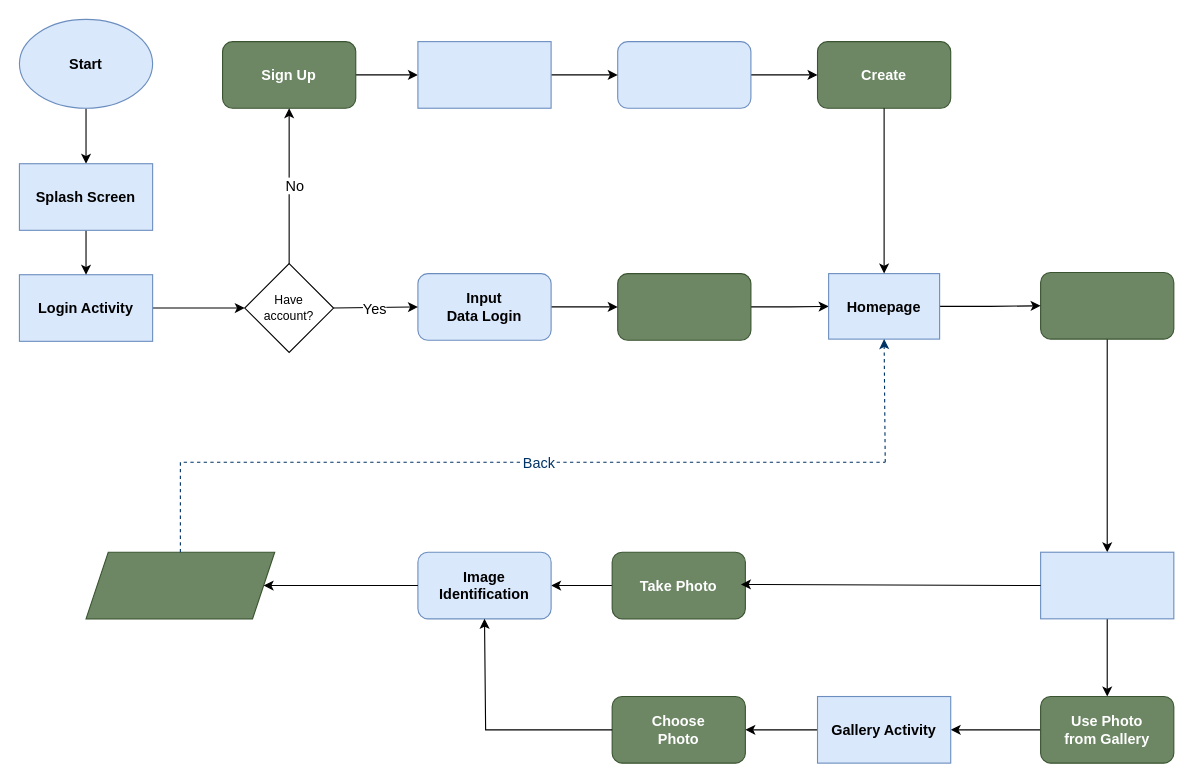
This 1193x783 diagram has some shape labels left out. The shapes that lost their labels are listed below. From the top down, each one's centre as x and y in pixels, then its label:
At (x=484, y=74): "Sign Up Activity".
At (x=684, y=74): "Input Data Register".
At (x=684, y=306): "Login".
At (x=1107, y=305): "Camera Scanner".
At (x=180, y=585): "Identification Result".
At (x=1107, y=585): "Camera Activity".
